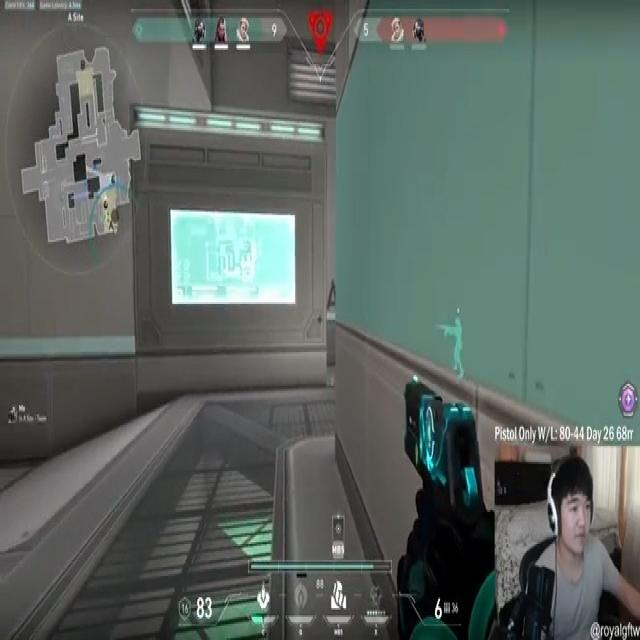ally behind wall: (440, 310, 468, 382)
